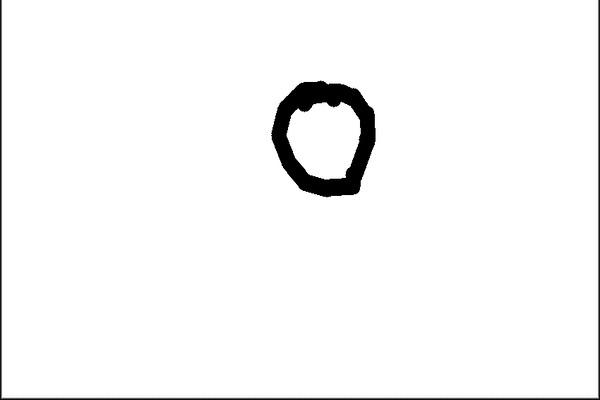O: (264, 72, 378, 205)
